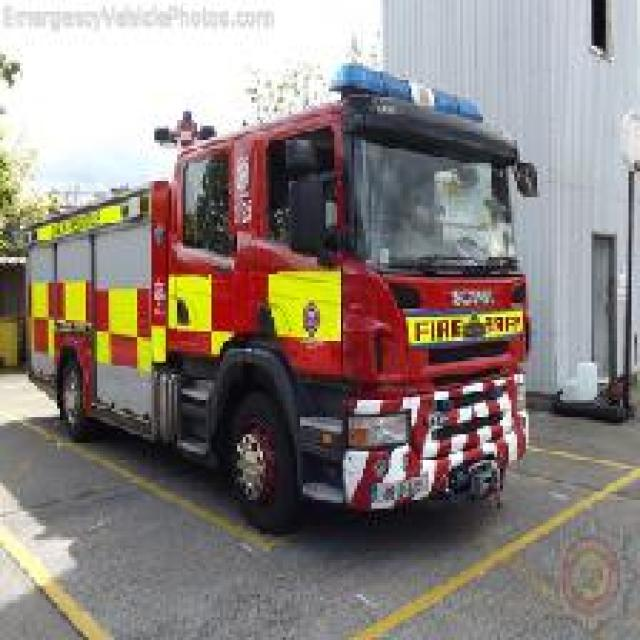Fire-truck: (20, 60, 537, 534)
